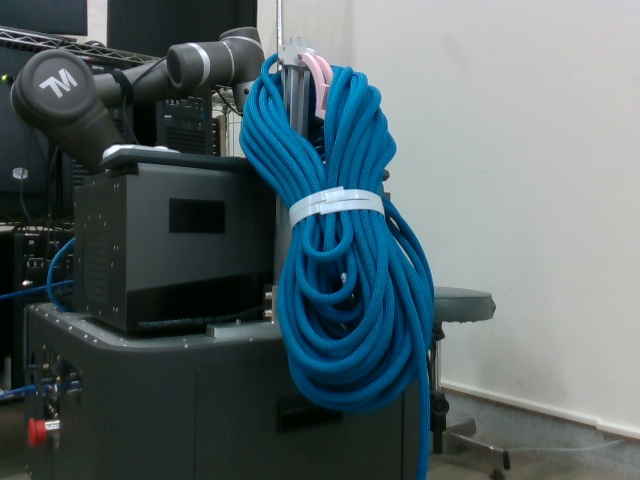rope: (242, 48, 438, 412)
